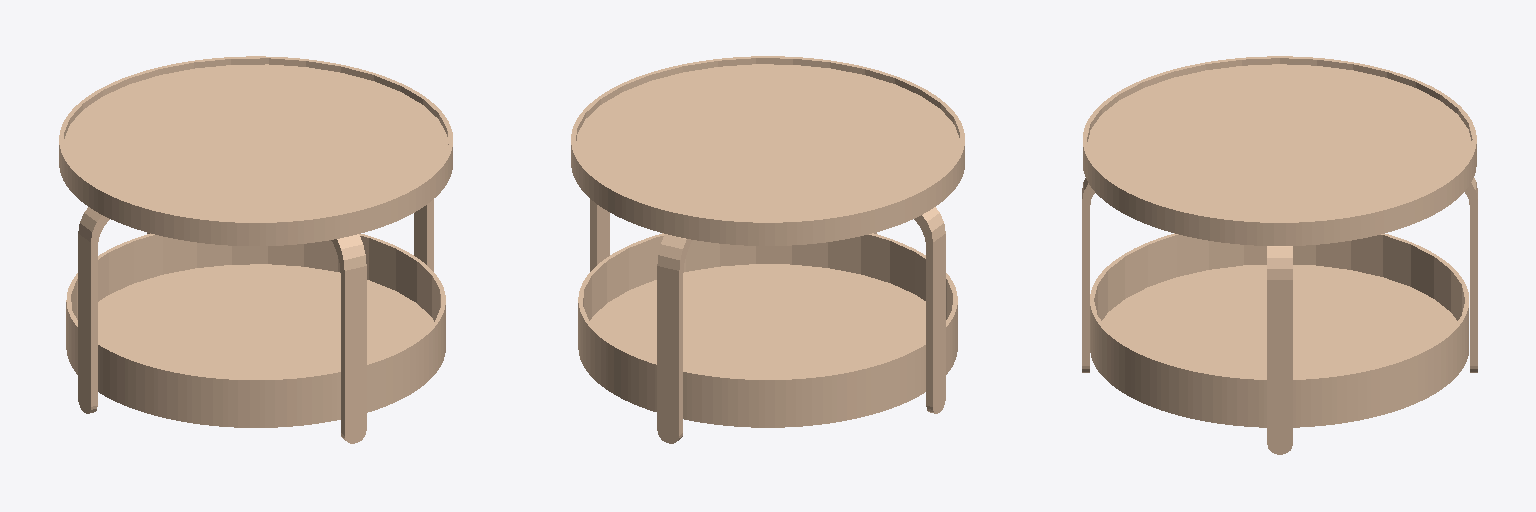
The picture shows the model from 3 angles: view 1: azimuth 30°, elevation 25°; view 2: azimuth 150°, elevation 25°; view 3: azimuth 270°, elevation 25°; orthographic projection.
Parts seen in each view (by area): view 1: Cylinder.001_Material.001_0; view 2: Cylinder.001_Material.001_0; view 3: Cylinder.001_Material.001_0.
Boxes of the visible parts, box(x1,y1,x2,y2) form: Cylinder.001_Material.001_0: box(59, 56, 452, 443); Cylinder.001_Material.001_0: box(571, 56, 964, 443); Cylinder.001_Material.001_0: box(1082, 56, 1477, 454).
Bounding box in the file's own units: 4.78 × 3.1 × 4.78.
1 materials, 1 textured.